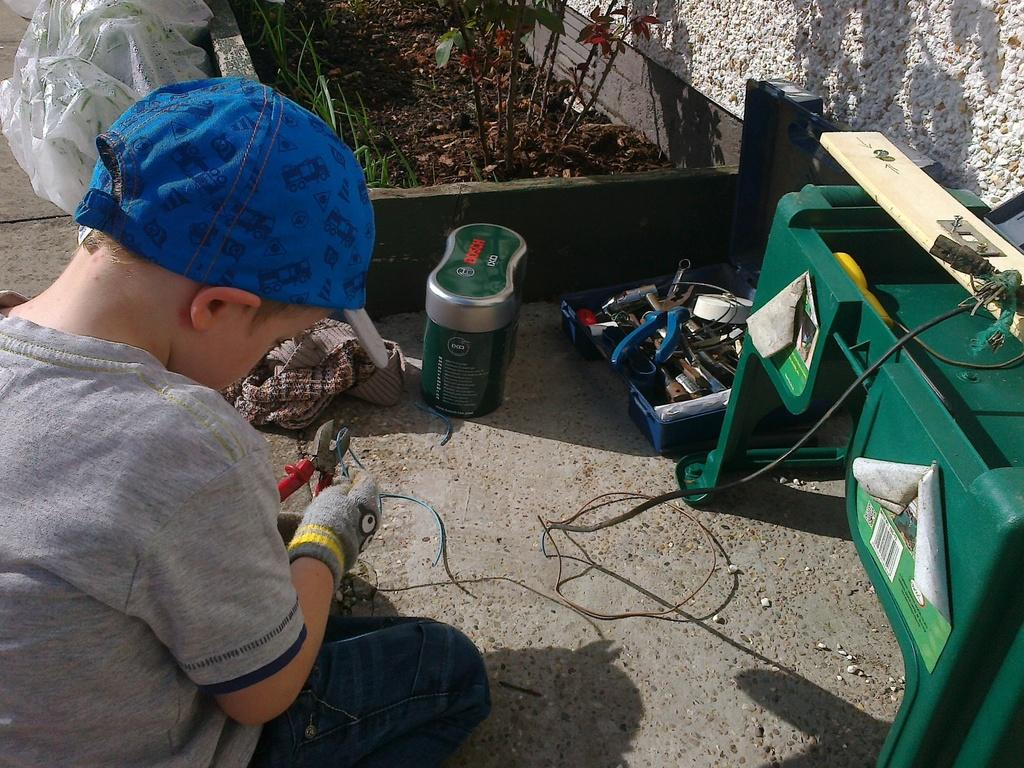Hat: (74, 72, 392, 368)
